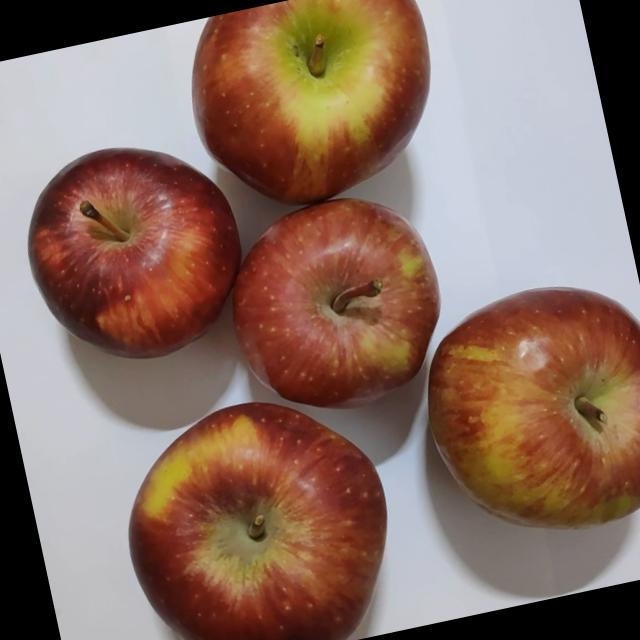apple: (101, 379, 415, 640), (392, 266, 640, 570), (161, 0, 459, 244), (200, 182, 468, 446), (5, 130, 266, 400)
